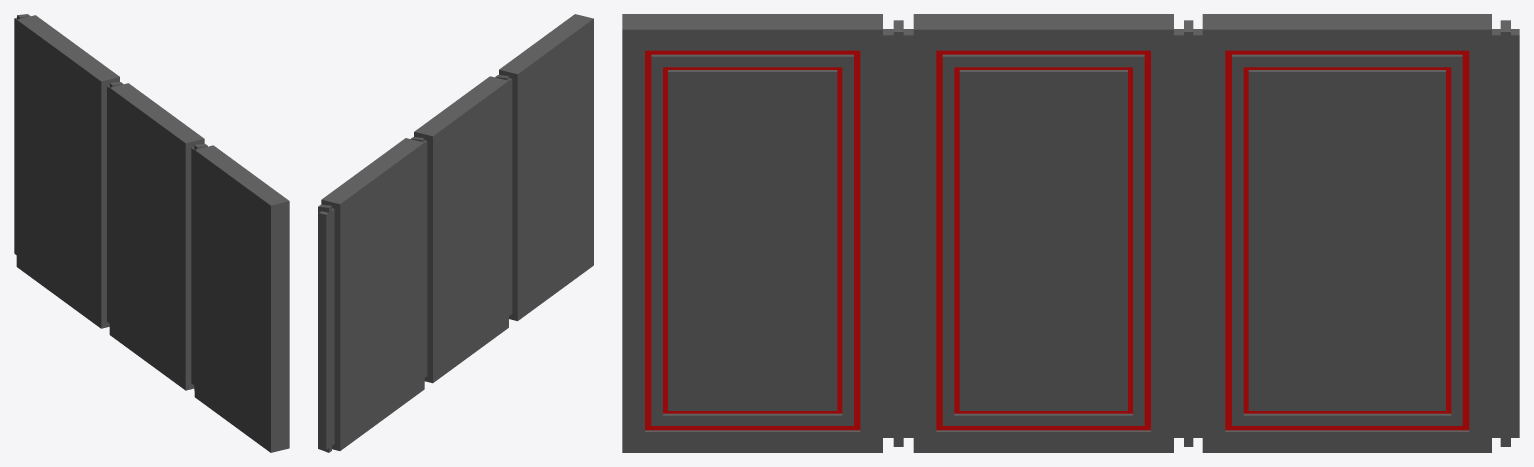
The model's file is Wall.fbx.
The picture shows the model from 3 angles, left to right: view 1: azimuth 30°, elevation 25°; view 2: azimuth 150°, elevation 25°; view 3: azimuth 270°, elevation 25°; orthographic projection. The views are drawn at different scales.
Parts seen in each view (by area): view 1: Cube; view 2: Cube; view 3: Cube.
Boxes of the visible parts, x1,y1,x2,y2 form: Cube: (14, 14, 289, 452); Cube: (318, 14, 593, 452); Cube: (622, 14, 1519, 452).
Size of the model in its own units: 48 by 602 by 1156.
